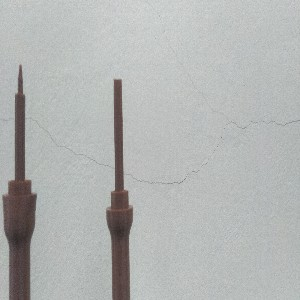obeng: (105, 78, 134, 300)
solder: (2, 60, 38, 300)
